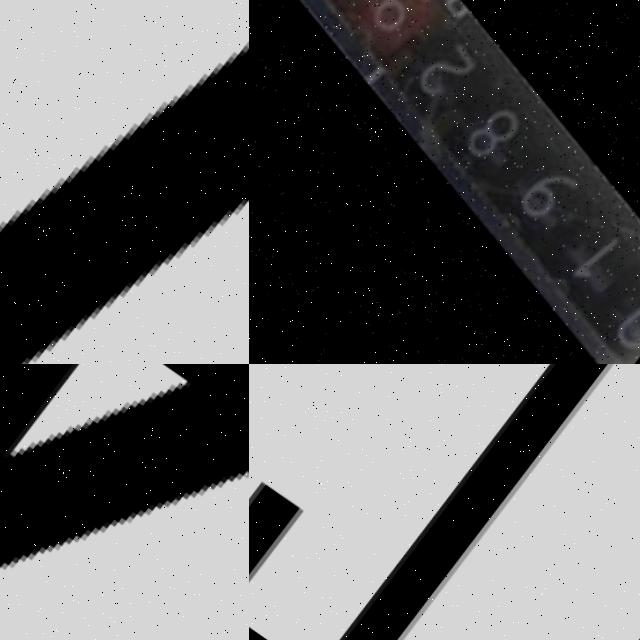0: (610, 286, 640, 364)
1: (568, 220, 640, 303)
2: (406, 28, 499, 121)
8: (459, 96, 544, 181)
9: (513, 151, 603, 242), (360, 0, 449, 52)
A: (0, 364, 249, 640)
C: (249, 364, 640, 640)
